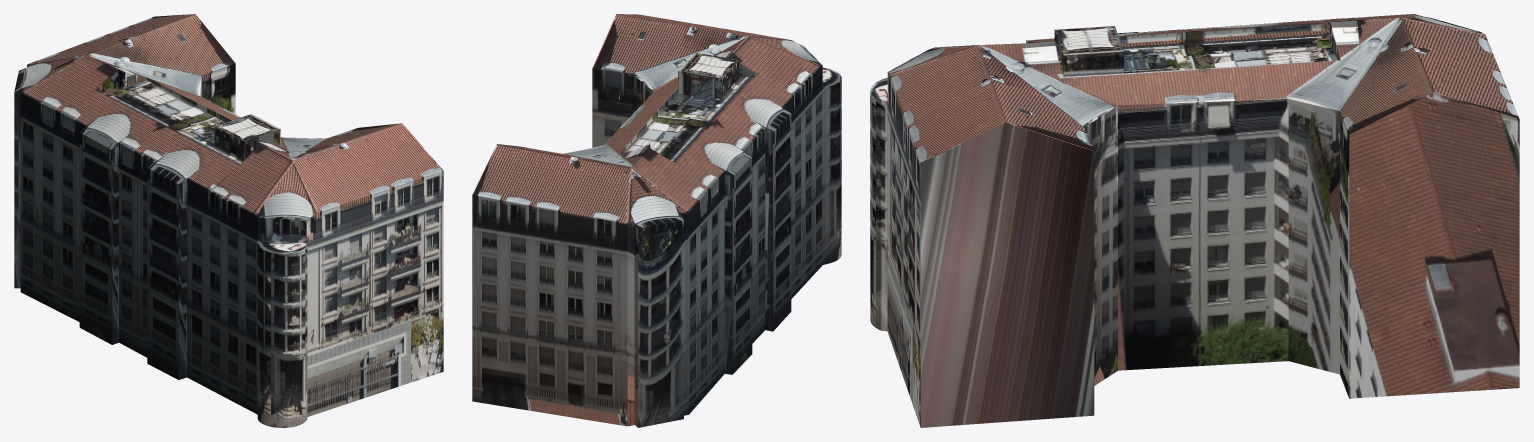
The picture shows the model from 3 angles, left to right: view 1: azimuth 30°, elevation 25°; view 2: azimuth 150°, elevation 25°; view 3: azimuth 270°, elevation 25°; orthographic projection. The views are drawn at different scales.
Parts seen in each view (by area): view 1: Z_UP; view 2: Z_UP; view 3: Z_UP.
Boxes of the visible parts, x1,y1,x2,y2 form: Z_UP: (14,14,443,427); Z_UP: (472,14,841,427); Z_UP: (870,14,1519,427).
Bounding box in the file's own units: 26.85 × 24.88 × 48.37.
2 materials, 1 textured.
